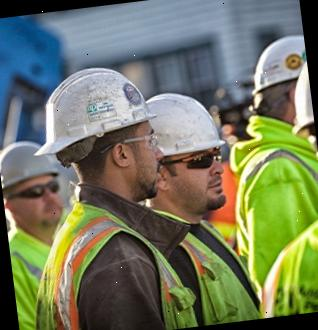helmet: (19, 61, 160, 172), (142, 85, 229, 161), (243, 31, 310, 96), (0, 135, 61, 194), (282, 60, 316, 138)
wear: (24, 201, 188, 330), (227, 112, 318, 273), (153, 210, 264, 329), (254, 214, 318, 318), (8, 226, 68, 330)
